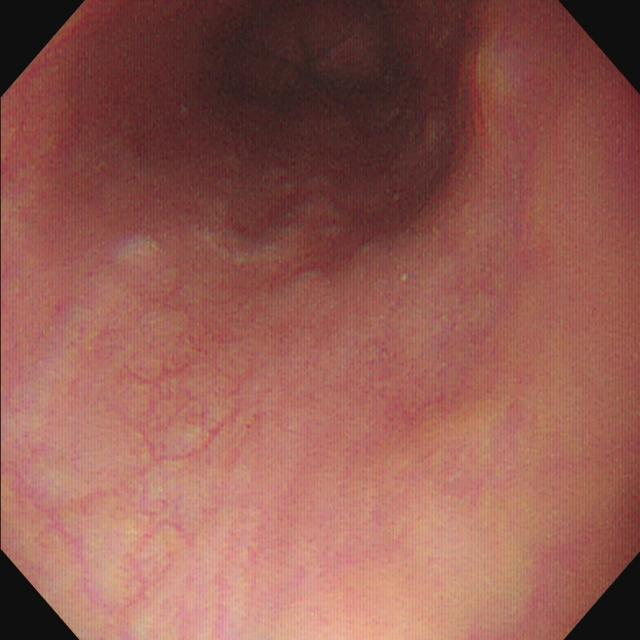I: (218, 3, 404, 121)
